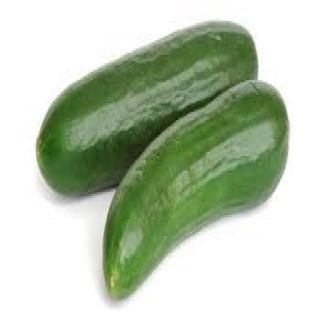Cucumber: (104, 83, 289, 297), (37, 24, 257, 193)
